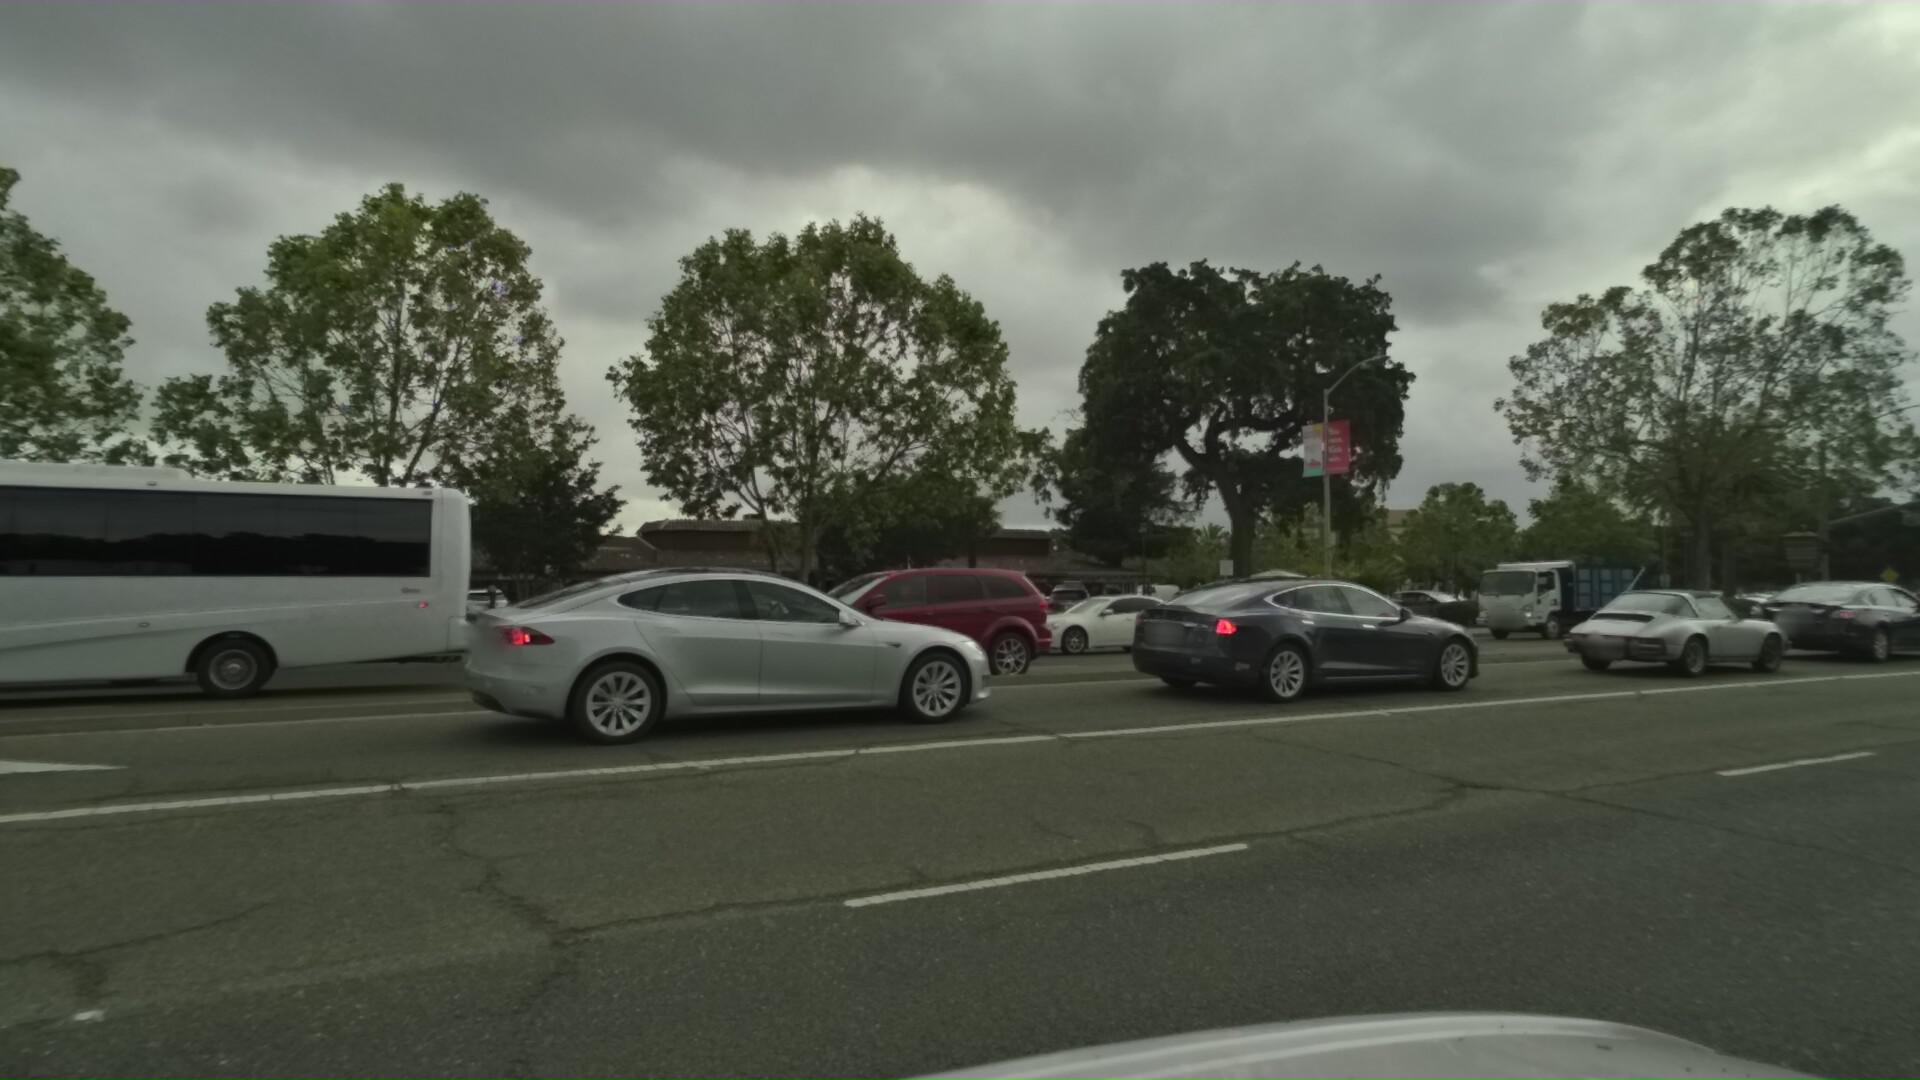bus: (0, 397, 463, 757)
car: (407, 549, 1007, 761), (1081, 553, 1499, 694), (680, 558, 1015, 690), (1534, 571, 1799, 678), (1724, 564, 1920, 662), (975, 587, 1168, 661), (1581, 583, 1724, 645), (1348, 582, 1456, 622), (1888, 556, 1920, 647)
truck: (1439, 553, 1633, 640), (1888, 531, 1920, 624)
